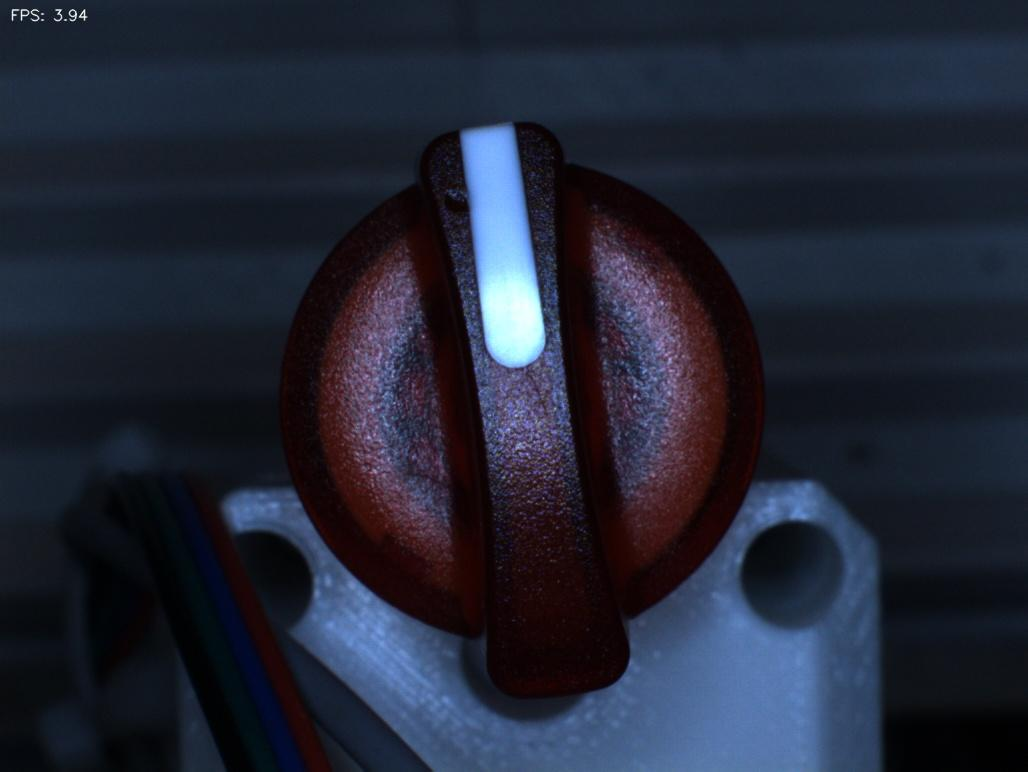Choc: (415, 158, 487, 234)
